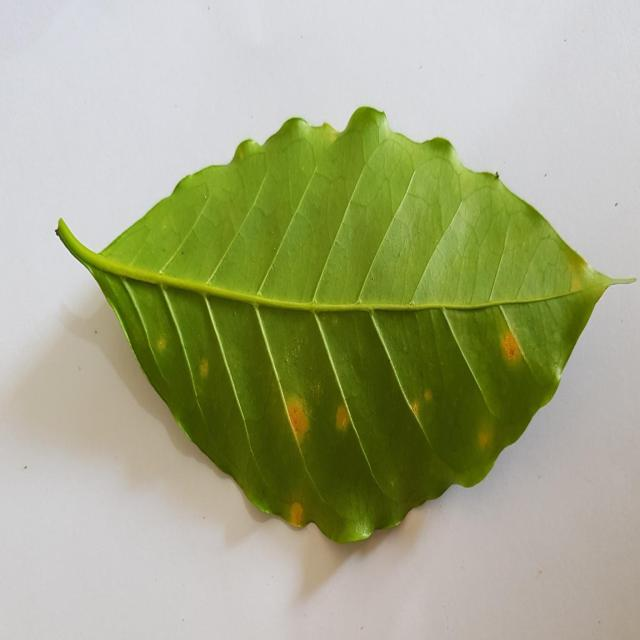Enfermedad-Roya: (54, 107, 636, 548)
